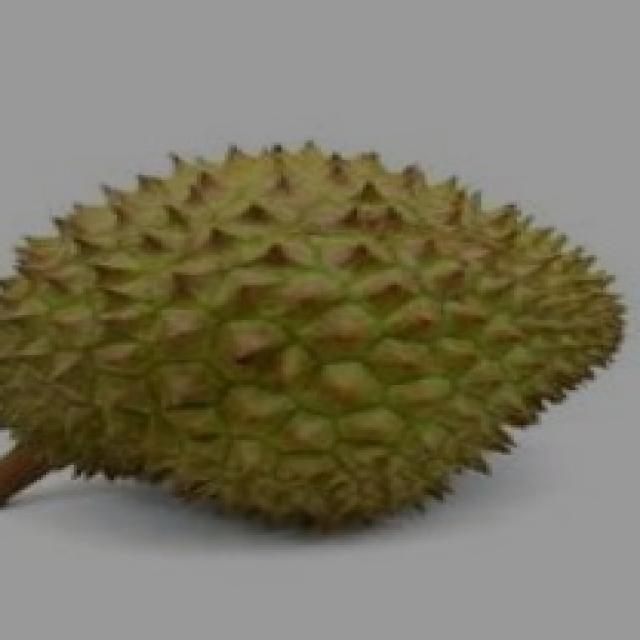fruit: (0, 183, 366, 585), (298, 160, 640, 588)
